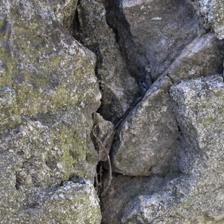Crack: (0, 28, 103, 217), (24, 54, 87, 163)
